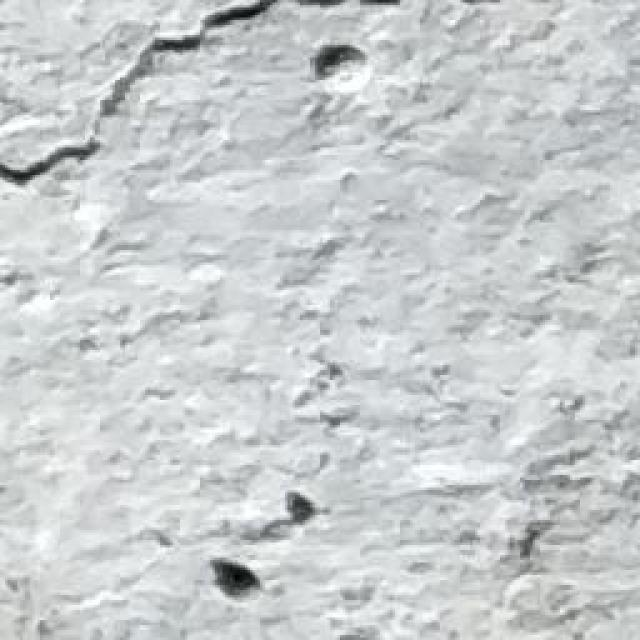Diagonal: (0, 0, 401, 190)
